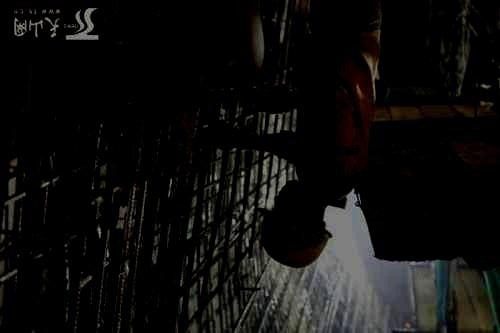helmet: (256, 179, 333, 268)
